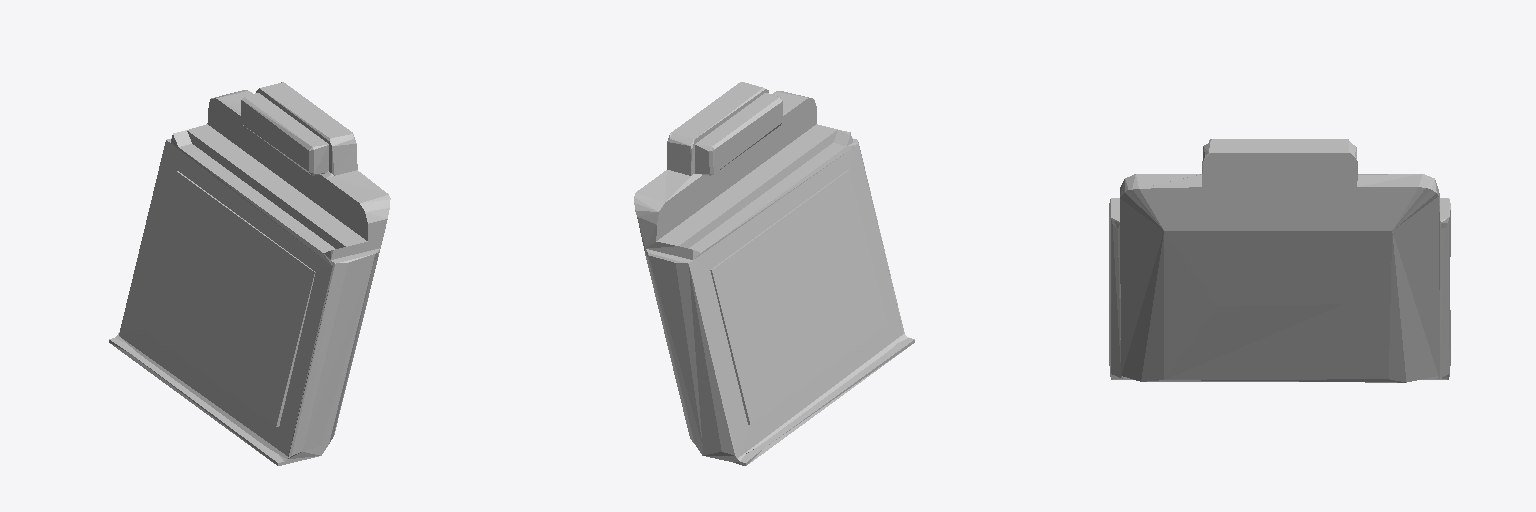
File: tablet_base.obj
3 views of the same model, side by side, from view 1: azimuth 30°, elevation 25°; view 2: azimuth 150°, elevation 25°; view 3: azimuth 270°, elevation 25° (orthographic).
Size of the model in its own units: 0.081 by 0.165 by 0.192.